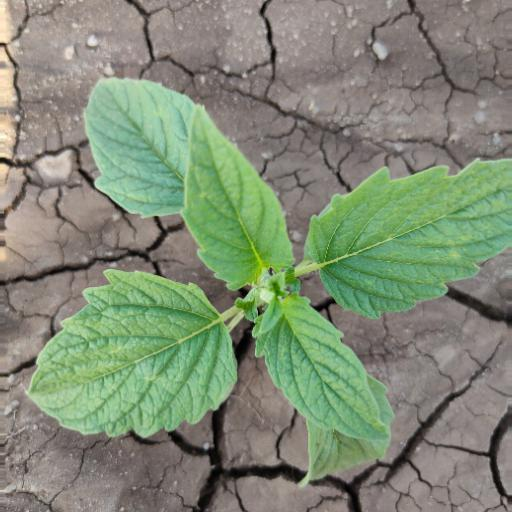crop: (33, 67, 506, 477)
